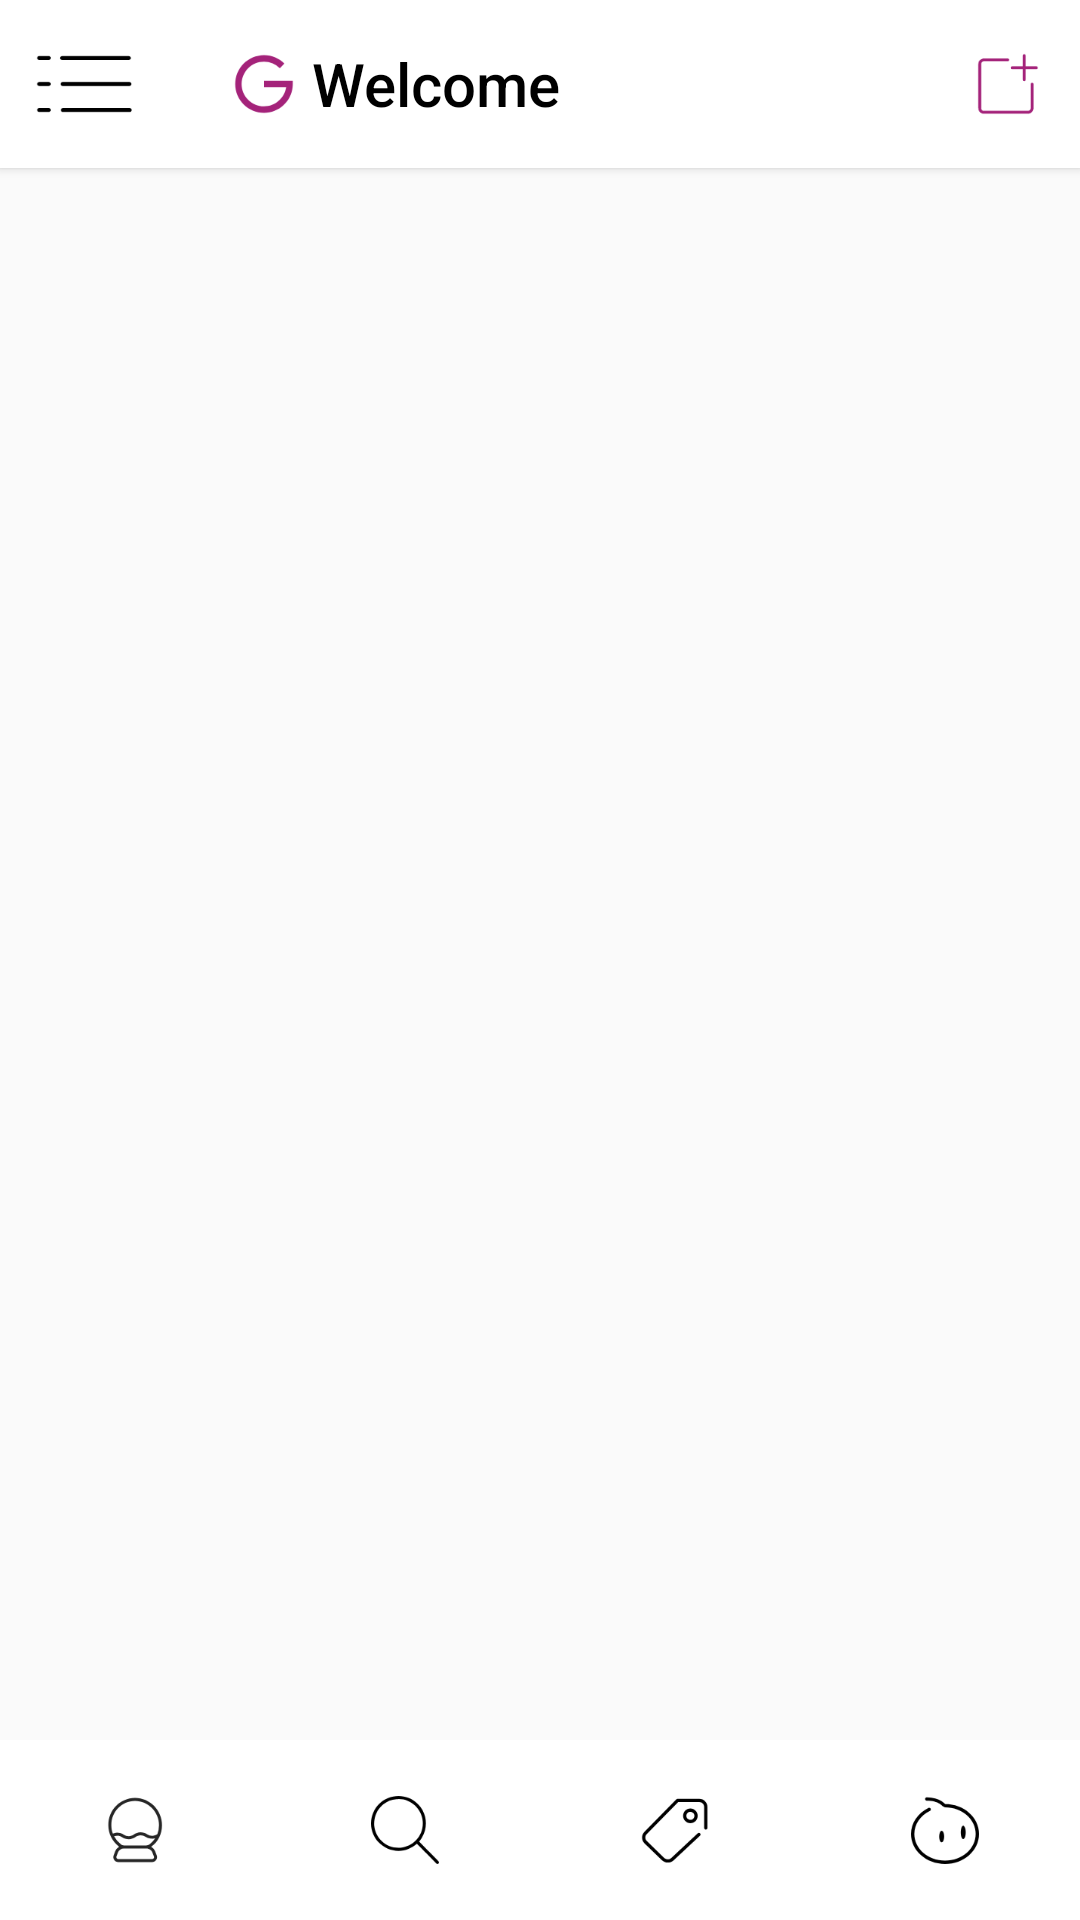

Locate icon controls on the screen. Image size 1080×1920, boxes as (x1, y1, x2, y2).
mine: (911, 1797, 979, 1864)
search: (371, 1796, 439, 1864)
